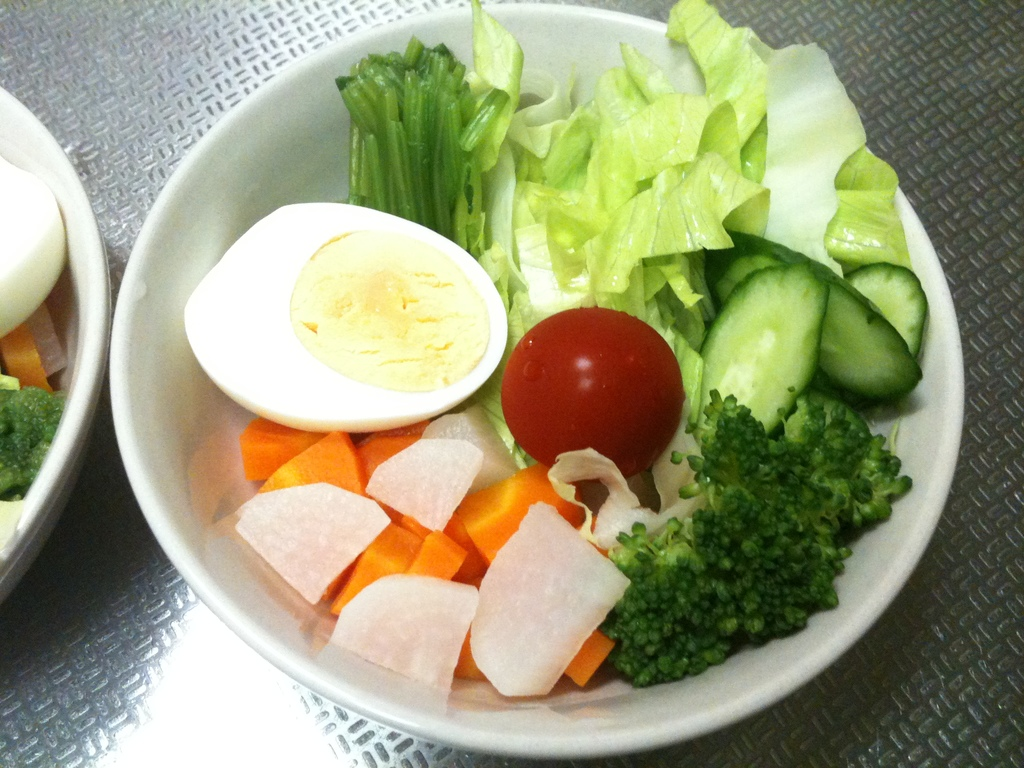Tomato: (496, 303, 687, 481)
